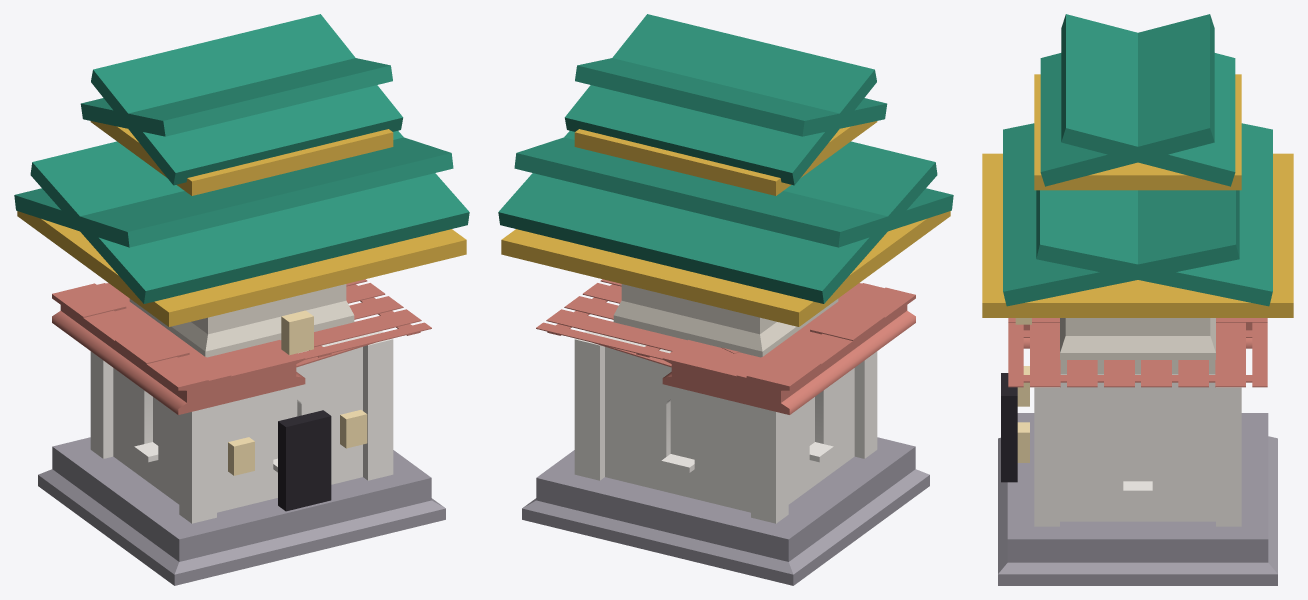
The model's file is asian-keep.glb.
3 renders of one model, left to right at view 1: azimuth 30°, elevation 25°; view 2: azimuth 150°, elevation 25°; view 3: azimuth 270°, elevation 25°, orthographic. The views are drawn at different scales.
Visible parts, largest first — view 1: body, glow; view 2: body; view 3: body, glow.
Boxes of the visible parts, bbox=[...] form: body: bbox=[14, 14, 469, 585]; glow: bbox=[228, 310, 367, 475]; body: bbox=[498, 14, 953, 585]; body: bbox=[982, 14, 1293, 585]; glow: bbox=[1015, 318, 1031, 462].
Size of the model in its own units: 1.85 by 2.38 by 1.5.
